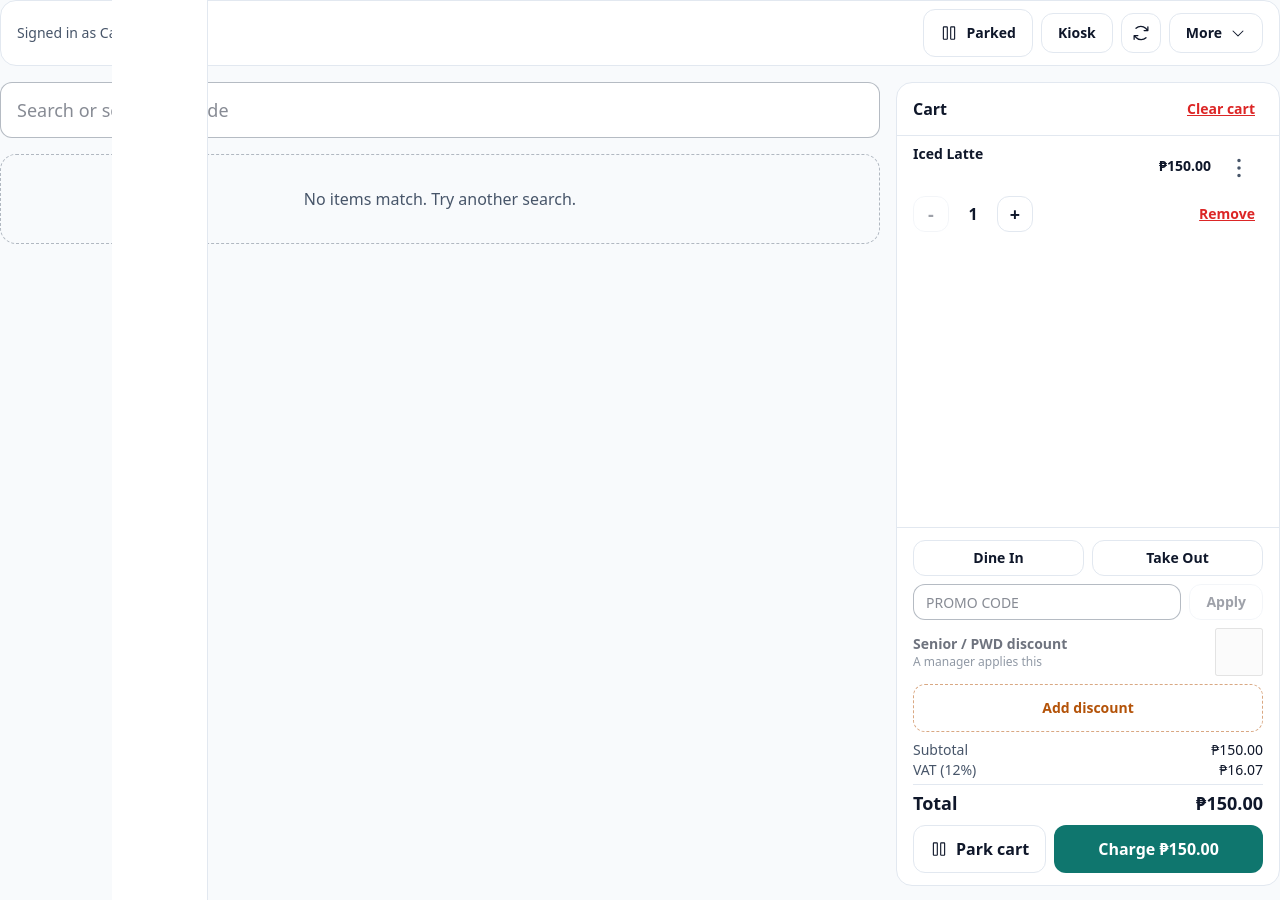
Test case: discount and override approval › asks for a PIN before sending, then sends one request carrying it
Click the button named "Actions for Iced Latte" at (1239, 168), box left=1215, top=144, right=1263, bottom=192
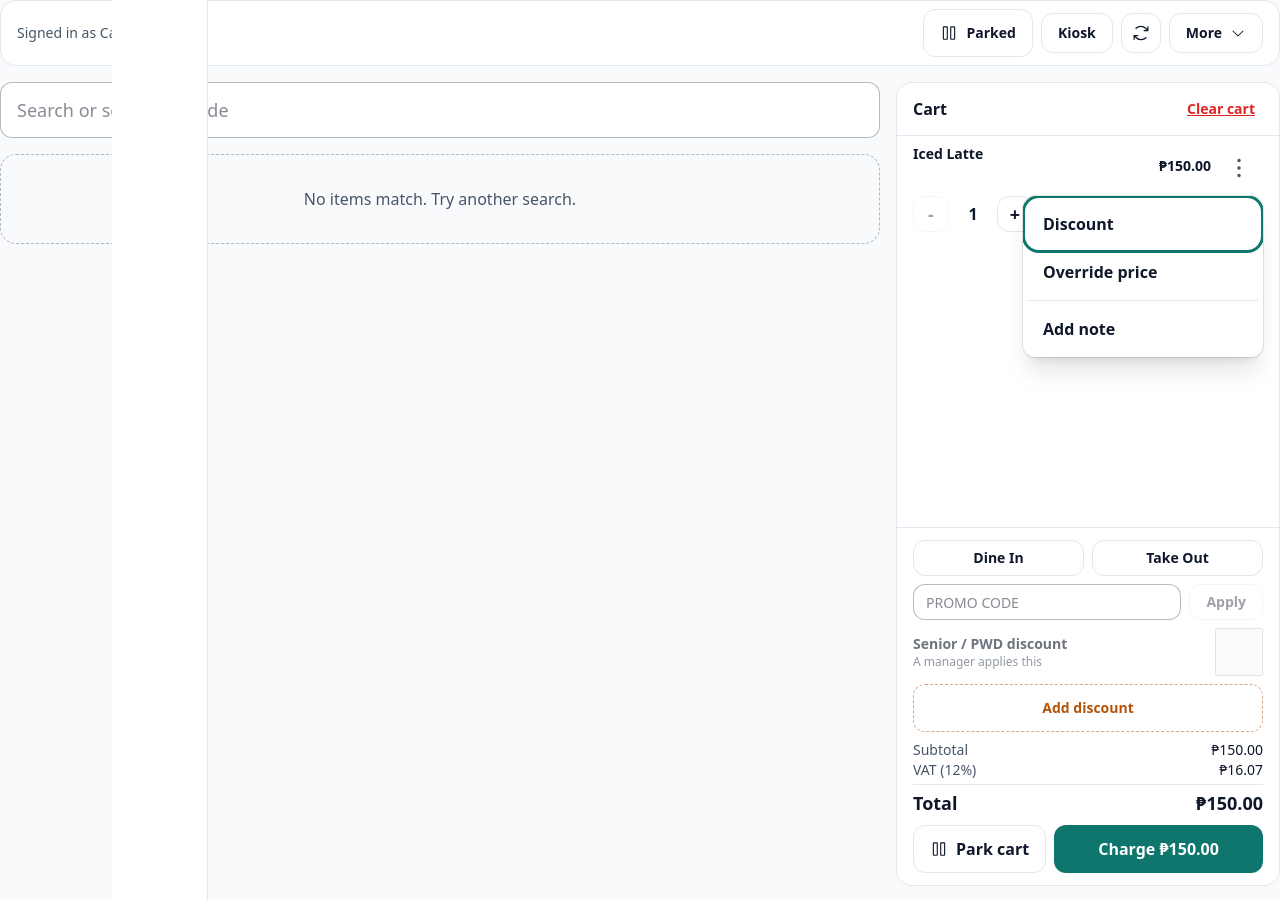
Click the menu item "Discount" at (1143, 224), box left=1027, top=200, right=1259, bottom=248
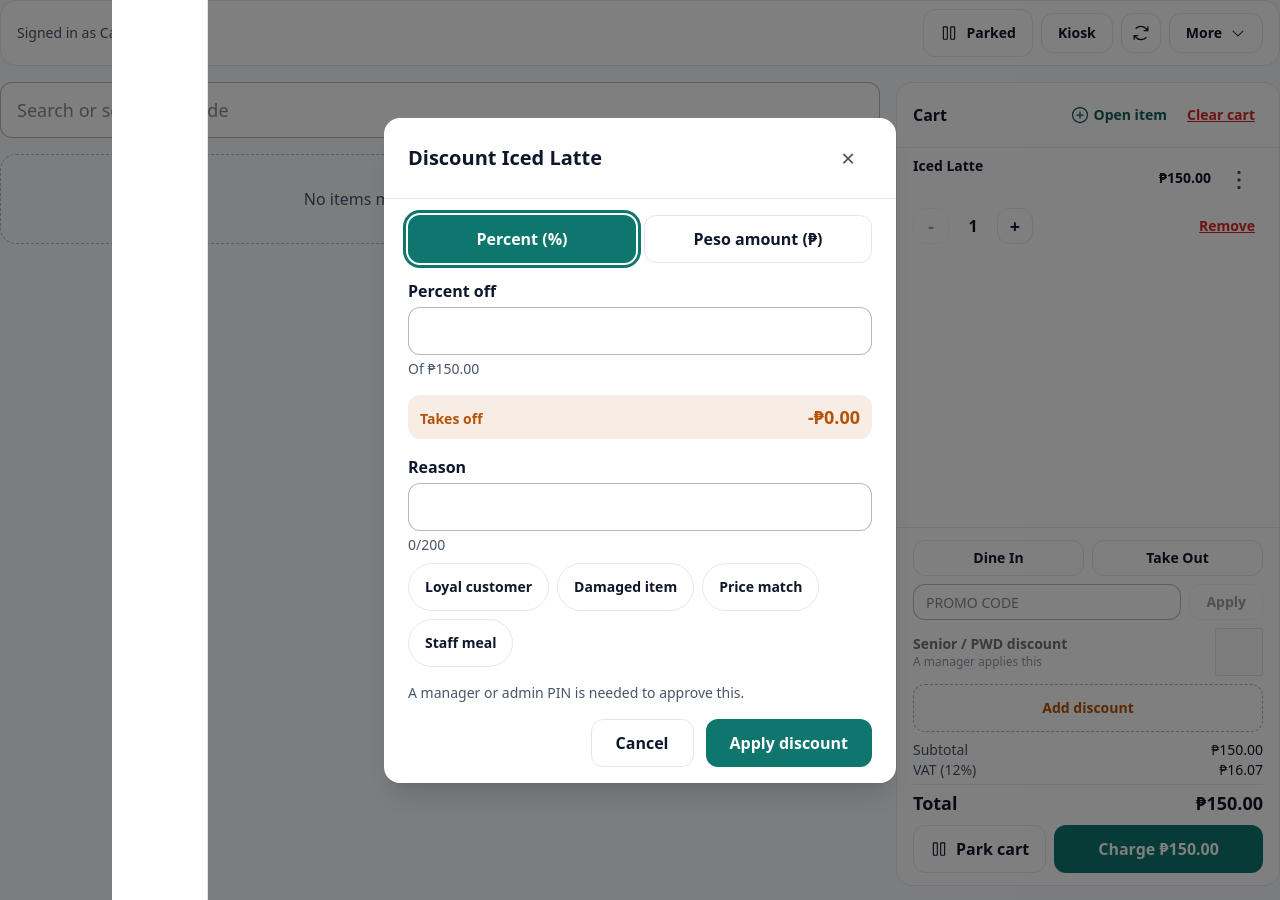
Type "10" into the field labelled "Percent off" at (640, 330), box left=408, top=306, right=872, bottom=354
Click the button "Loyal customer" at (479, 586), box left=408, top=562, right=549, bottom=610
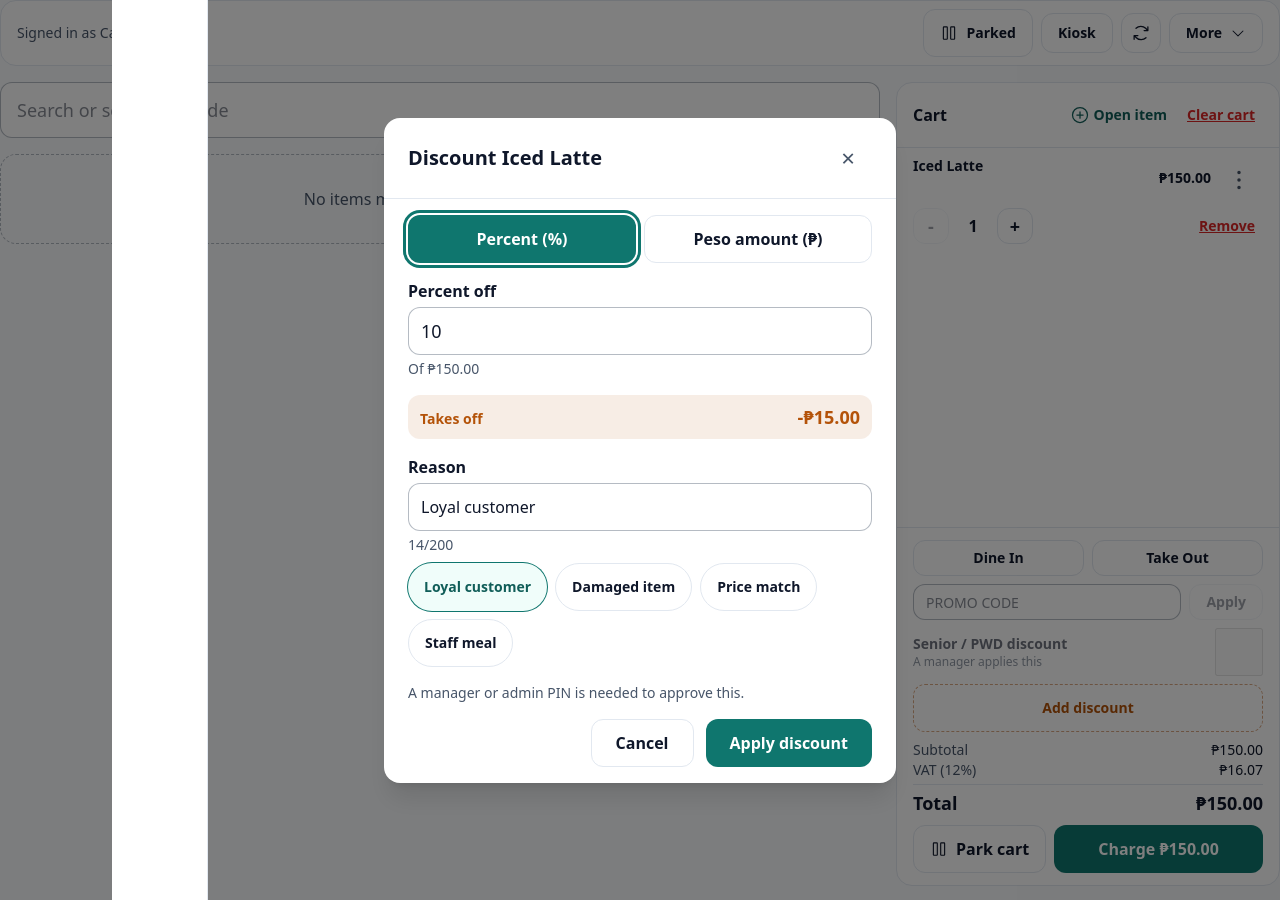
Click the button "Apply discount" at (789, 742), box left=706, top=718, right=872, bottom=766
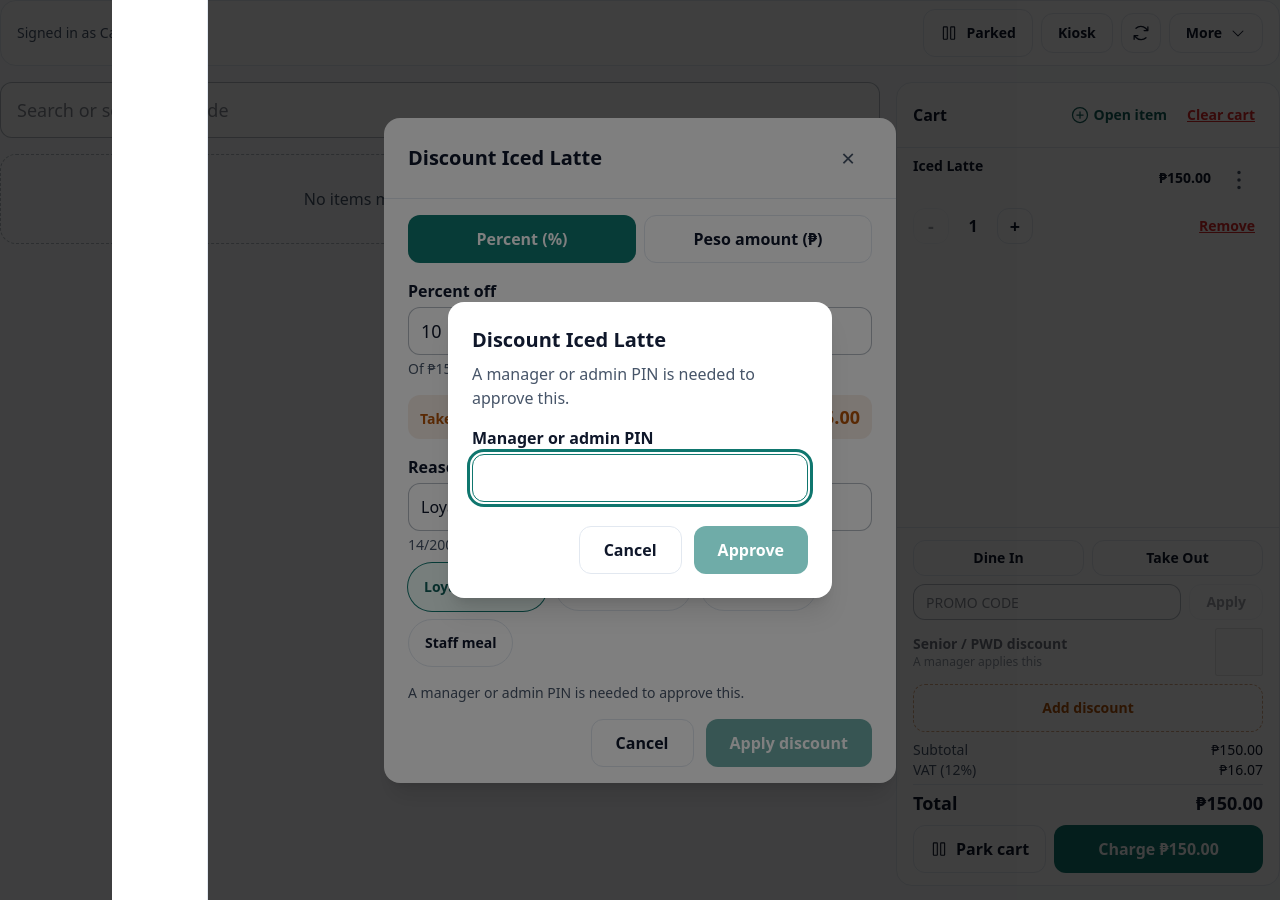
Now the text "A manager or admin PIN is needed to approve this." is shown, box left=472, top=363, right=755, bottom=409
Now the button "Apply discount" is disabled, box left=706, top=718, right=872, bottom=766
Type "2222" into the password field labelled "Manager or admin PIN" at (640, 478), box left=472, top=454, right=808, bottom=502
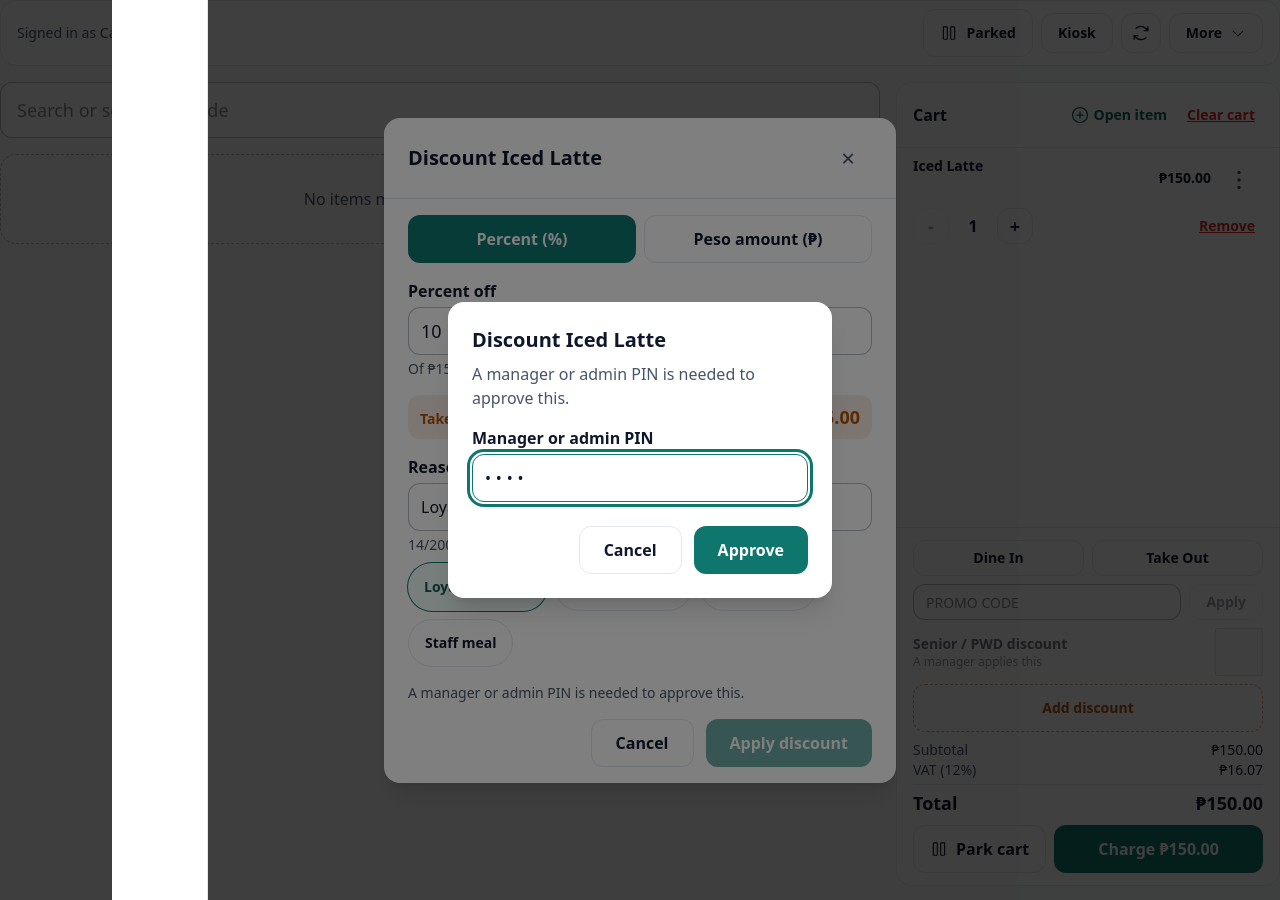
Submit the dialog, box left=448, top=302, right=832, bottom=598
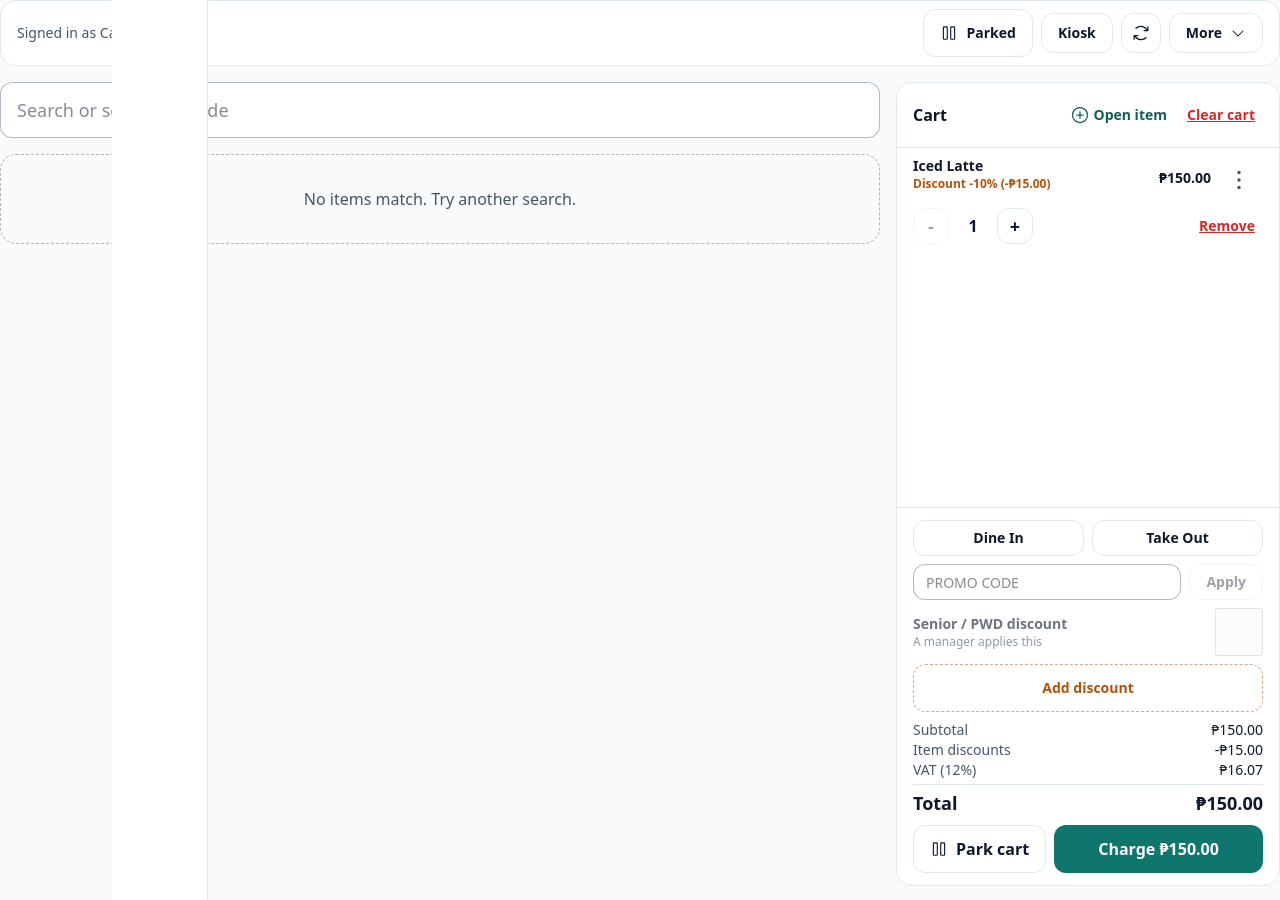
Now the heading "Discount Iced Latte" is gone
